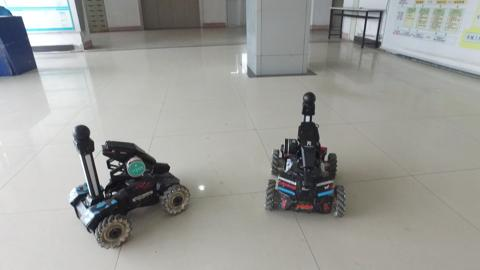chariot: (56, 124, 192, 253), (253, 90, 350, 222)
